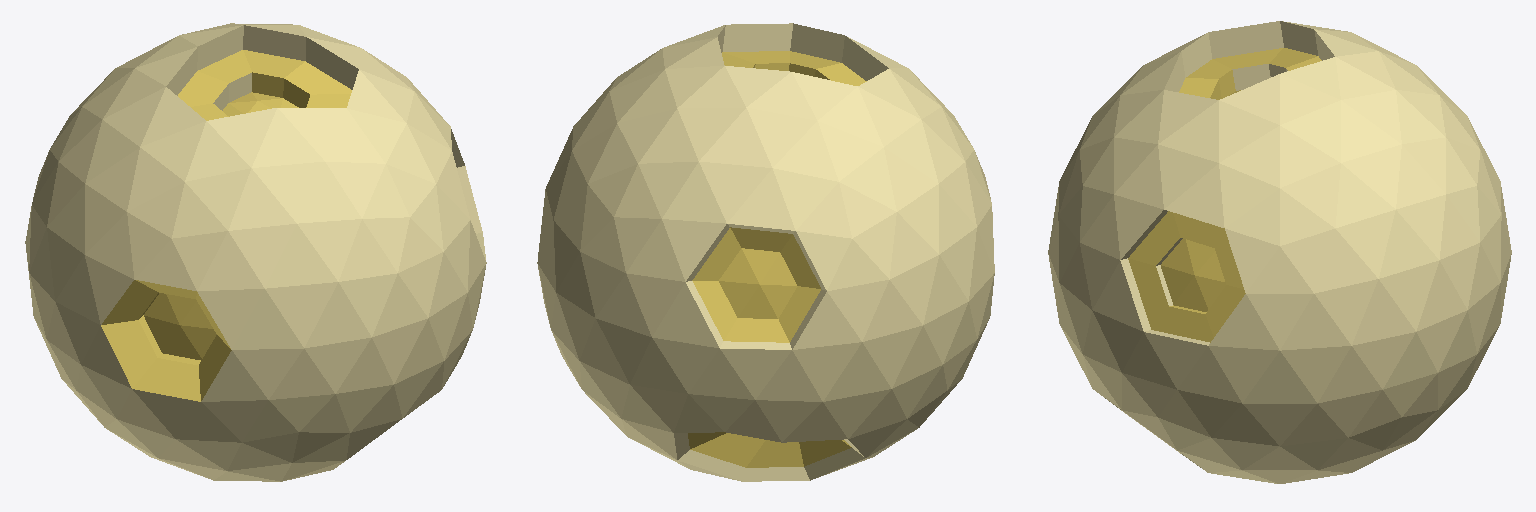
The picture shows the model from 3 angles: view 1: azimuth 30°, elevation 25°; view 2: azimuth 150°, elevation 25°; view 3: azimuth 270°, elevation 25°; orthographic projection.
Visible parts, largest first — view 1: Icosphere; view 2: Icosphere; view 3: Icosphere.
Boxes of the visible parts, x1=… form: Icosphere: x1=25, y1=23, x2=486, y2=481; Icosphere: x1=537, y1=23, x2=994, y2=481; Icosphere: x1=1048, y1=21, x2=1511, y2=483.
Bounding box in the file's own units: 2.88 × 2.83 × 2.88.
1 materials, 1 textured.